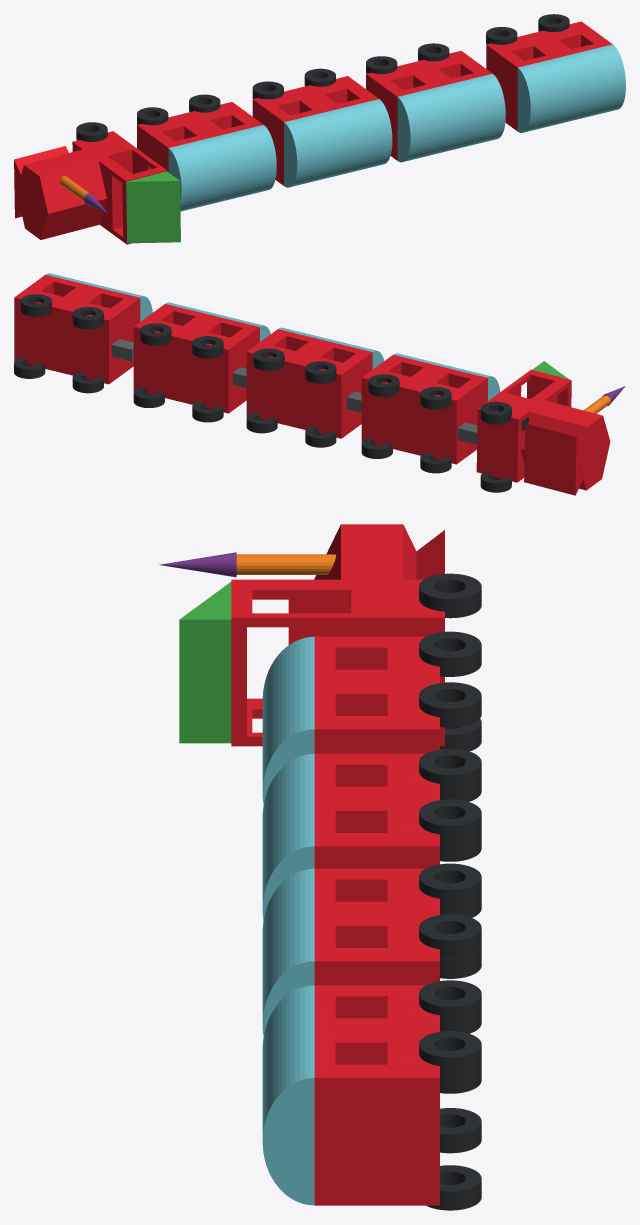
The model's file is tinker.obj.
3 renders of one model, top to bottom at view 1: azimuth 30°, elevation 25°; view 2: azimuth 150°, elevation 25°; view 3: azimuth 270°, elevation 25°, orthographic. The views are drawn at different scales.
Visible parts, largest first — view 1: group_0_7720667, group_0_15277357, group_0_2829873, group_0_4634441, group_0_16089887; view 2: group_0_15277357, group_0_2829873, group_0_7720667, group_0_6383466; view 3: group_0_15277357, group_0_7720667, group_0_2829873, group_0_4634441, group_0_16089887, group_0_8273816.
Boxes of the visible parts, x1,y1,x2,y2 form: group_0_7720667: (168,44,625,211); group_0_15277357: (14,21,612,244); group_0_2829873: (76,14,569,150); group_0_4634441: (126,171,180,243); group_0_16089887: (60,176,88,201); group_0_15277357: (14,274,610,495); group_0_2829873: (14,294,529,492); group_0_7720667: (46,273,500,400); group_0_6383466: (111,339,477,444); group_0_15277357: (231,524,444,1205); group_0_7720667: (262,636,314,1205); group_0_2829873: (419,573,481,1210); group_0_4634441: (179,582,231,743); group_0_16089887: (236,554,336,574); group_0_8273816: (159,552,236,577).
Size of the model in its own units: 250 by 33 by 62.
